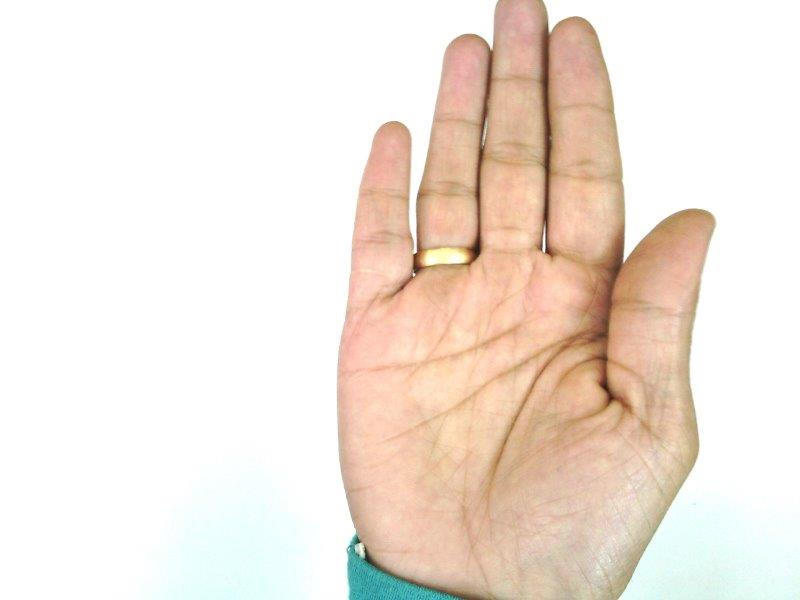hand: (337, 1, 716, 598)
